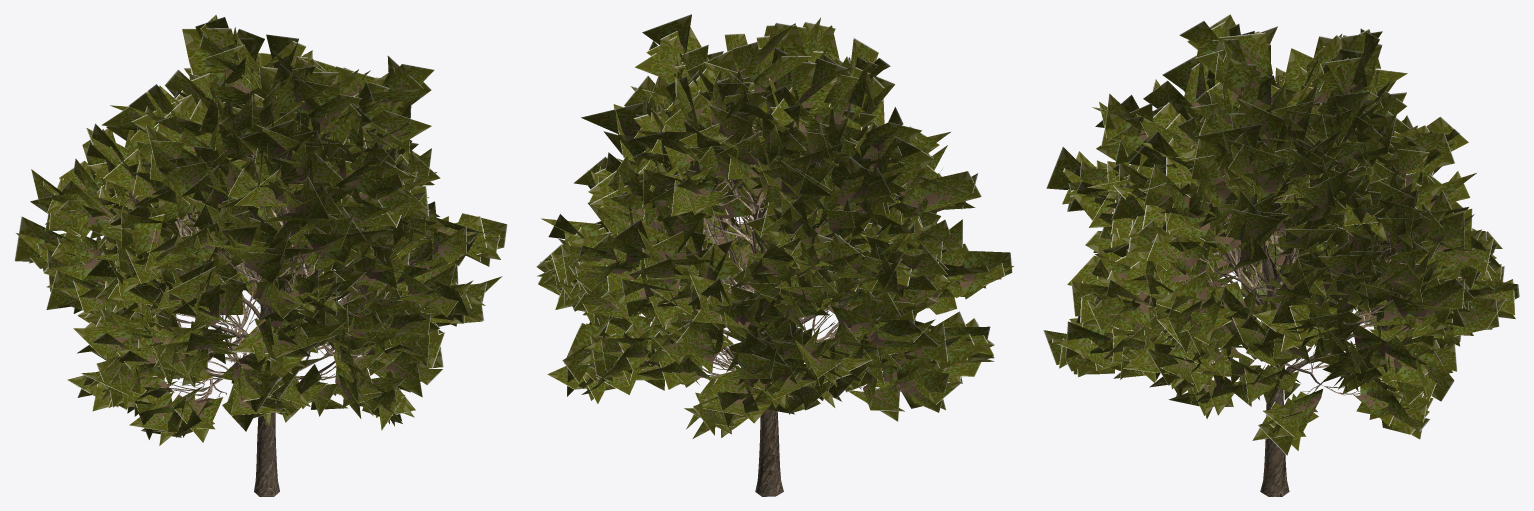
Rendered from tree_02.glb.
3 renders of one model, left to right at view 1: azimuth 30°, elevation 25°; view 2: azimuth 150°, elevation 25°; view 3: azimuth 270°, elevation 25°, orthographic. The views are drawn at different scales.
Visible parts, largest first — view 1: TREE_02_mesh_1, TREE_02_mesh_1.001, TREE_02_Object_4; view 2: TREE_02_mesh_1, TREE_02_mesh_1.001, TREE_02_Object_4; view 3: TREE_02_mesh_1, TREE_02_Object_4, TREE_02_mesh_1.001.
Part boxes in pixels (left/top/right/bottom): TREE_02_mesh_1: left=14, top=14, right=507, bottom=445; TREE_02_mesh_1.001: left=78, top=86, right=446, bottom=401; TREE_02_Object_4: left=205, top=201, right=397, bottom=496; TREE_02_mesh_1: left=536, top=14, right=1014, bottom=438; TREE_02_mesh_1.001: left=637, top=65, right=941, bottom=391; TREE_02_Object_4: left=718, top=127, right=842, bottom=496; TREE_02_mesh_1: left=1043, top=14, right=1519, bottom=455; TREE_02_Object_4: left=1206, top=232, right=1395, bottom=496; TREE_02_mesh_1.001: left=1112, top=95, right=1449, bottom=395.
Bounding box in the file's own units: 70.32 × 75.01 × 70.59.
Materials: 3 (3 with a texture image).
